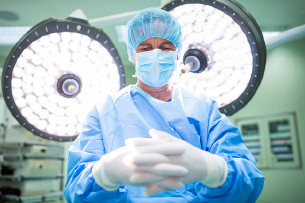face_mask: (133, 30, 177, 87)
